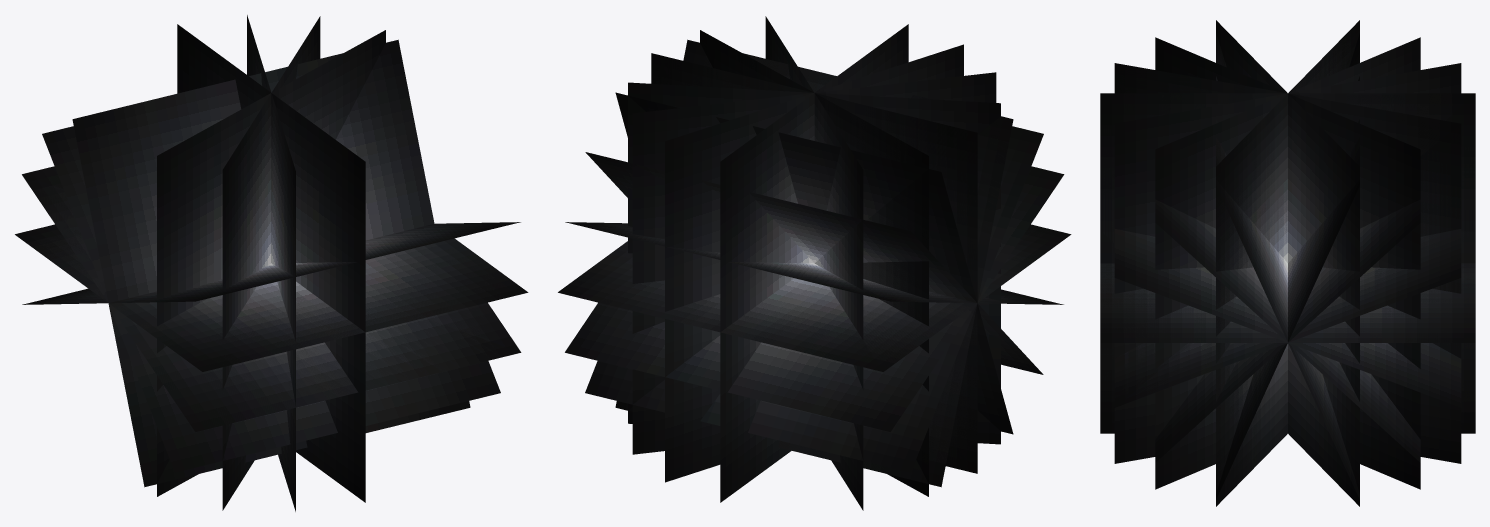
Rendered from Voidfall Medium_mdx.gltf.
3 renders of one model, left to right at view 1: azimuth 30°, elevation 25°; view 2: azimuth 150°, elevation 25°; view 3: azimuth 270°, elevation 25°, orthographic.
Parts seen in each view (by area): view 1: Voidfall MediumPDR; view 2: Voidfall MediumPDR; view 3: Voidfall MediumPDR.
Part boxes in pixels (bbox=[...]): Voidfall MediumPDR: bbox=[15, 15, 528, 511]; Voidfall MediumPDR: bbox=[558, 16, 1071, 510]; Voidfall MediumPDR: bbox=[1100, 20, 1475, 506].
Size of the model in its own units: 118 by 118 by 118.
1 material, 1 textured.
